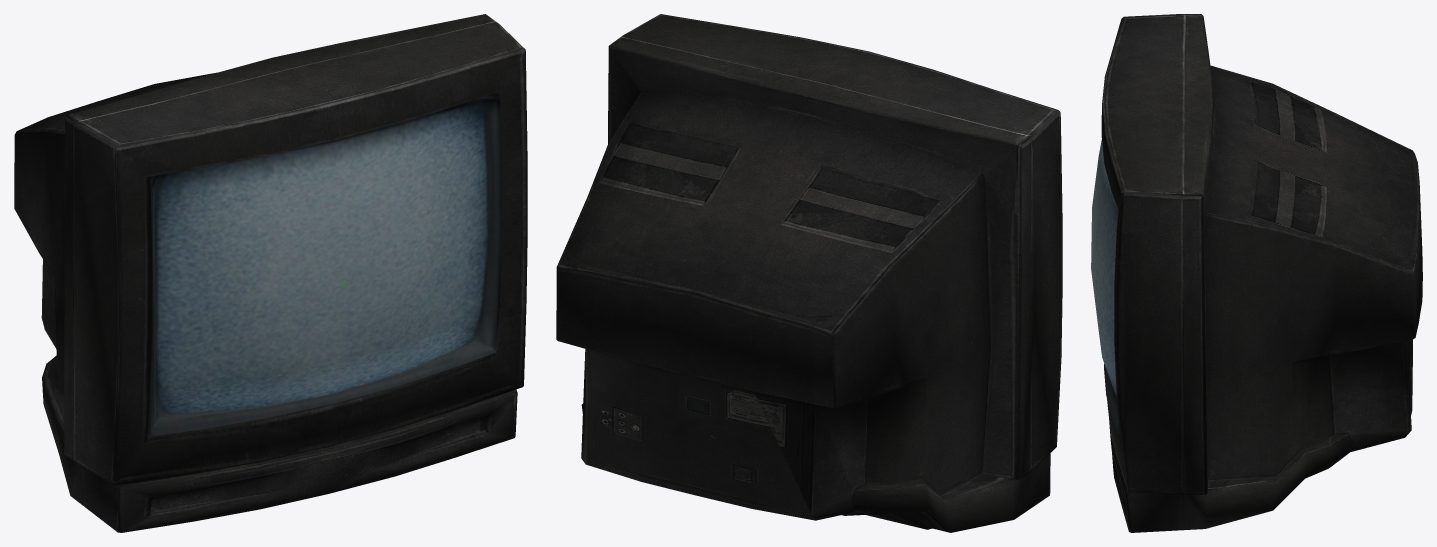
Rendered from lounge-tv-v2.glb.
The picture shows the model from 3 angles, left to right: view 1: azimuth 30°, elevation 25°; view 2: azimuth 150°, elevation 25°; view 3: azimuth 270°, elevation 25°; orthographic projection. The views are drawn at different scales.
Visible parts, largest first — view 1: mesh_0, mesh_0.001; view 2: mesh_0; view 3: mesh_0, mesh_0.001.
Part boxes in pixels (x1=…): mesh_0: x1=14, y1=14, x2=527, y2=532; mesh_0.001: x1=150, y1=92, x2=502, y2=435; mesh_0: x1=556, y1=14, x2=1062, y2=532; mesh_0: x1=1101, y1=14, x2=1422, y2=532; mesh_0.001: x1=1091, y1=139, x2=1119, y2=437.
Bounding box in the file's own units: 0.407 × 0.3647 × 0.3143.
Materials: 3 (2 with a texture image).
